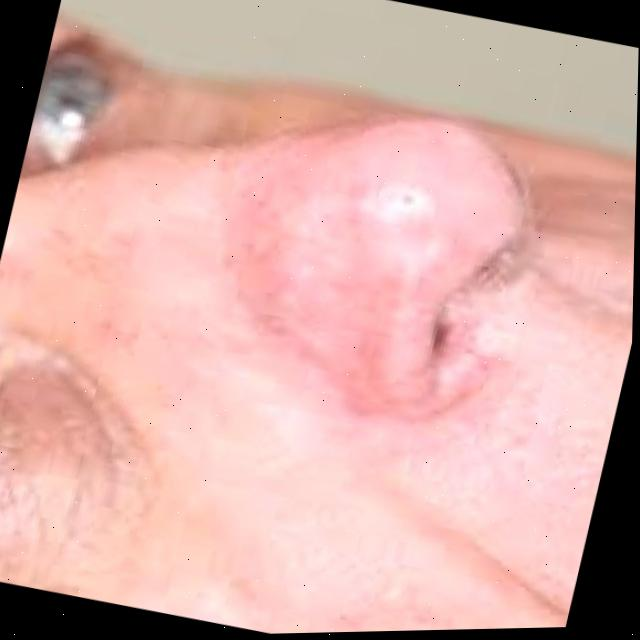Rosacea: (207, 186, 351, 364)
